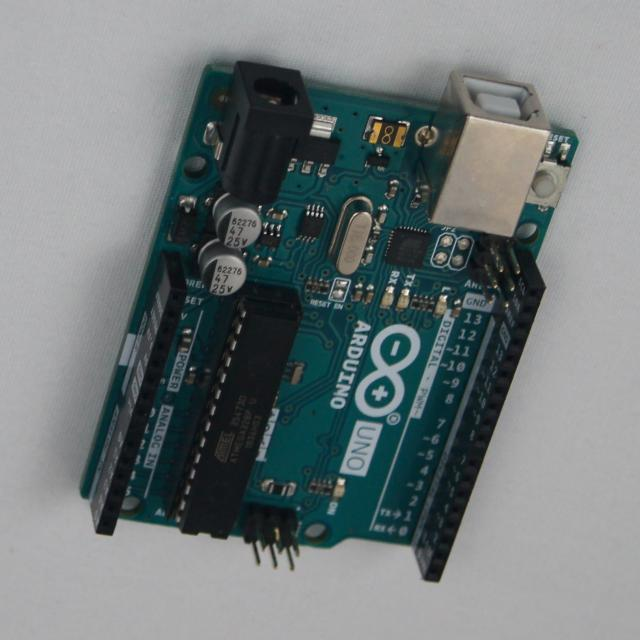Arduino Uno -Green-: (81, 62, 579, 582)
